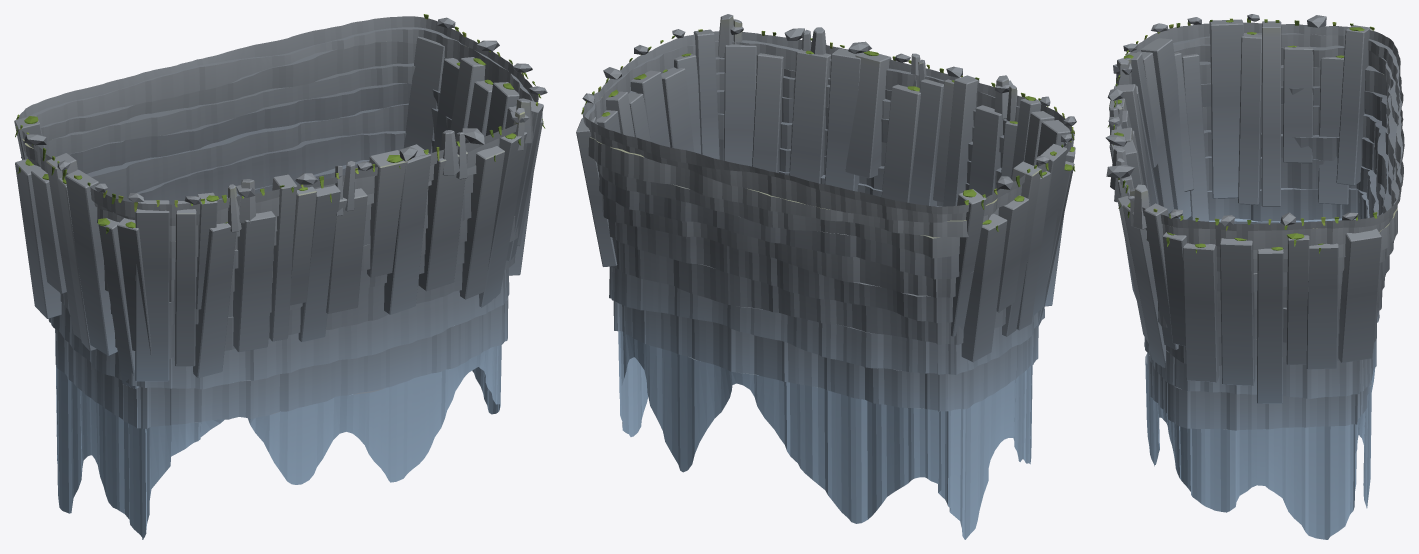
Rendered from Arena_MountainPass_Cliffs.fbx.
3 renders of one model, left to right at view 1: azimuth 30°, elevation 25°; view 2: azimuth 150°, elevation 25°; view 3: azimuth 270°, elevation 25°, orthographic. The views are drawn at different scales.
Parts seen in each view (by area): view 1: Arena_MountainPass_Cliffs.001; view 2: Arena_MountainPass_Cliffs.001; view 3: Arena_MountainPass_Cliffs.001.
Part boxes in pixels (box(x1,y1,x2,y2)): Arena_MountainPass_Cliffs.001: box(14, 14, 547, 539); Arena_MountainPass_Cliffs.001: box(576, 14, 1076, 539); Arena_MountainPass_Cliffs.001: box(1105, 14, 1404, 539).
Bounding box in the file's own units: 33.6 × 27.95 × 20.41.
